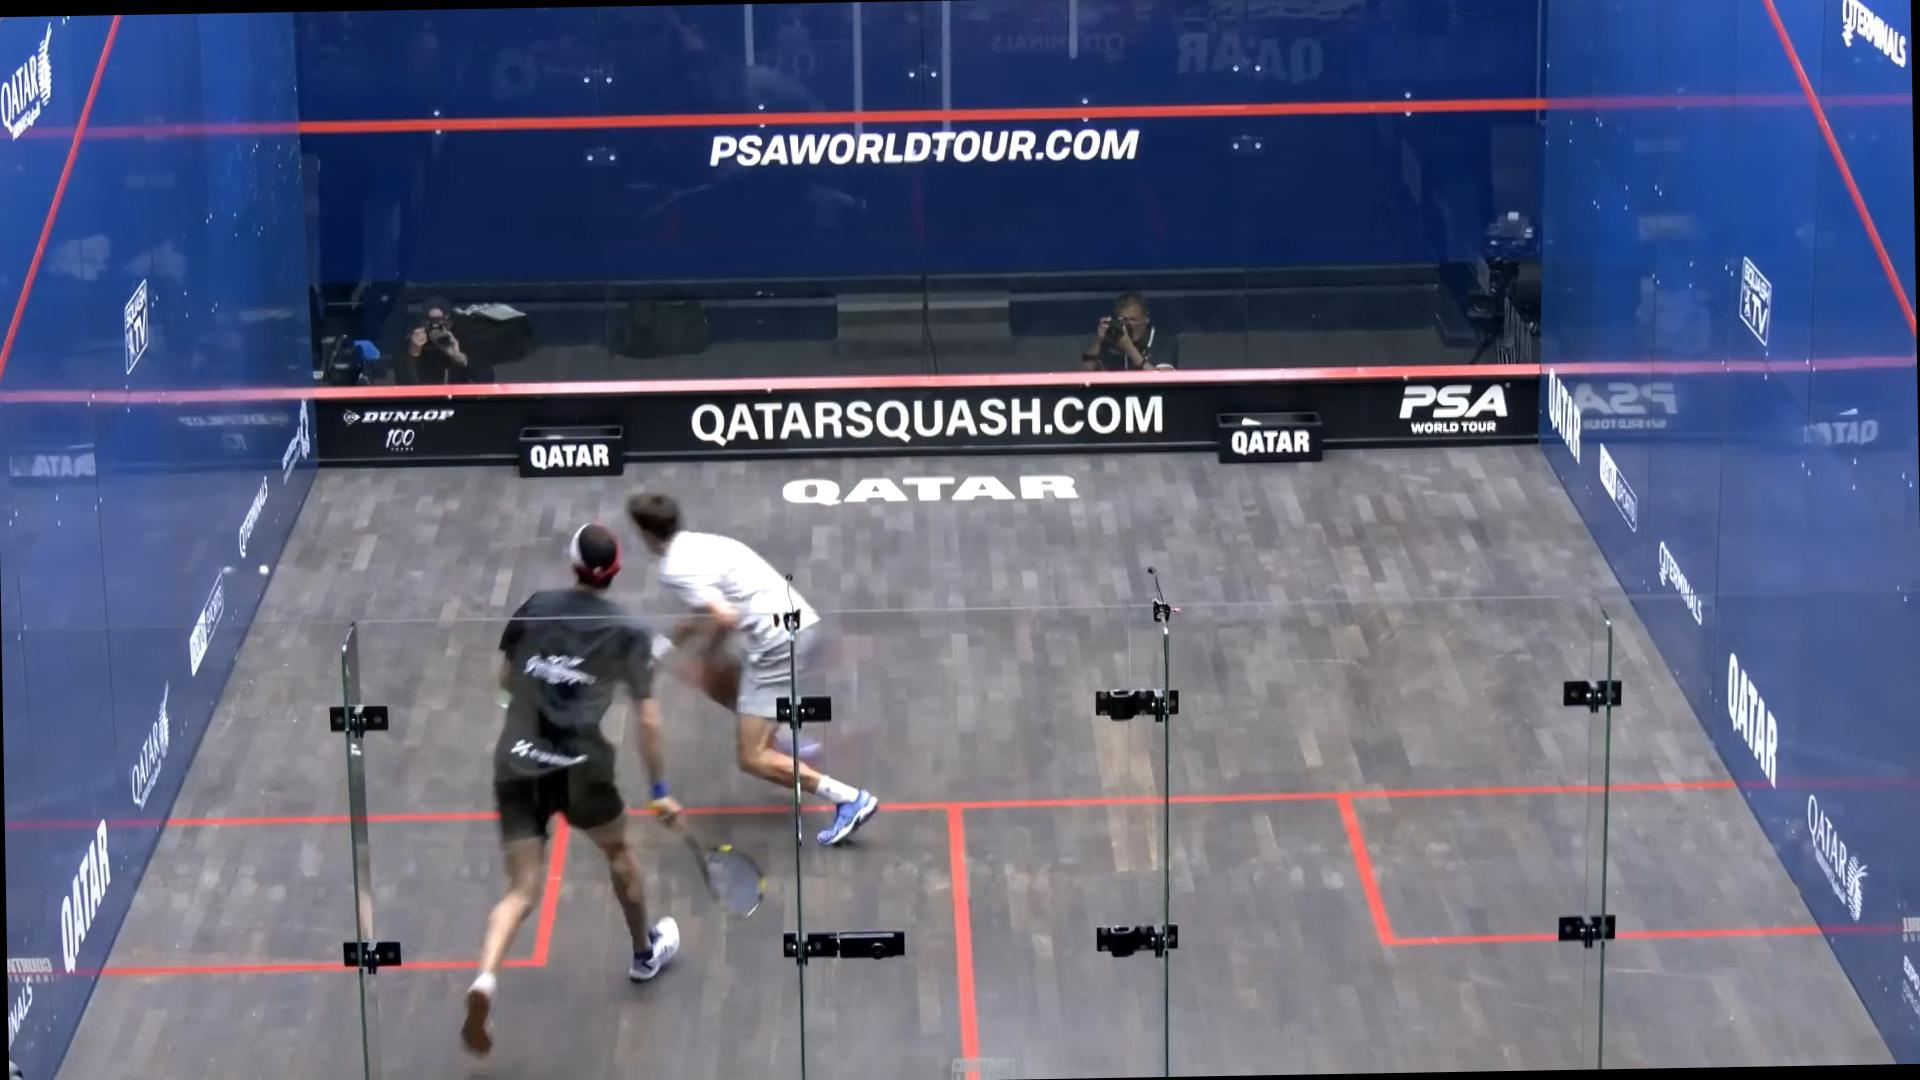Racket: (684, 820, 777, 932)
